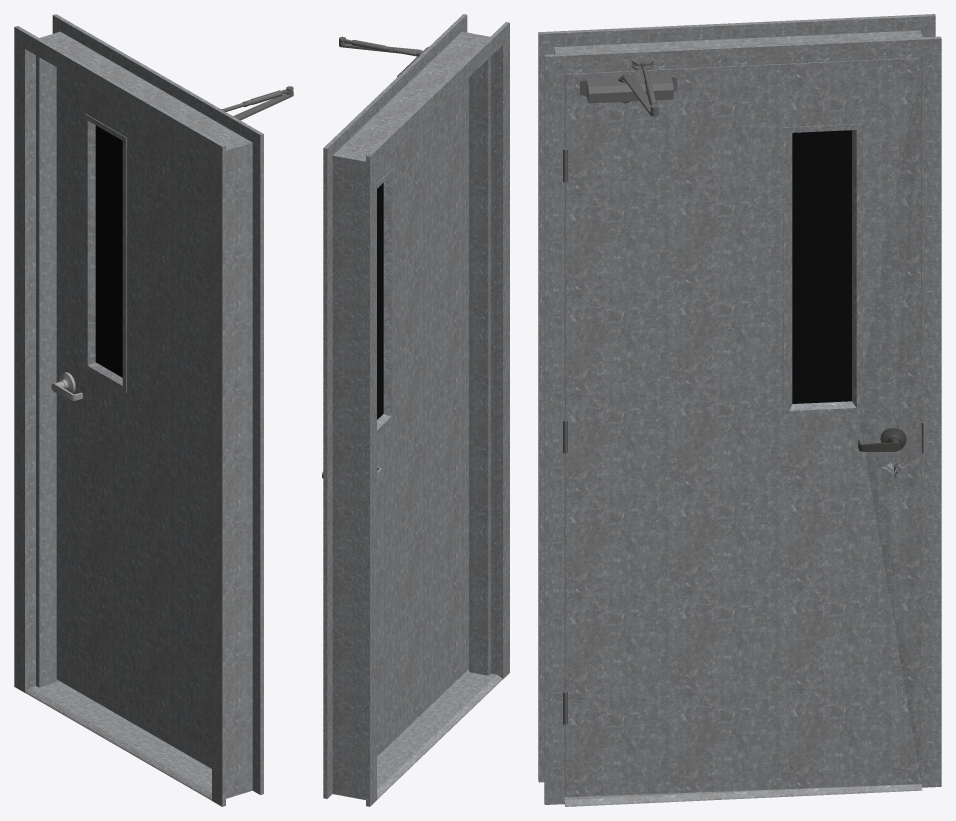
File: puerta_cerradura_estrellada.fbx
3 renders of one model, left to right at view 1: azimuth 30°, elevation 25°; view 2: azimuth 150°, elevation 25°; view 3: azimuth 270°, elevation 25°, orthographic. The views are drawn at different scales.
Visible parts, largest first — view 1: door_004, frame_004, floor_plate_004, handle_004; view 2: frame_004, door_004, floor_plate_004, closer_hinge_frame_004; view 3: door_004, frame_004, floor_plate_004, closer_door_004, handle_004.
Boxes of the visible parts, x1,y1,x2,y2 form: door_004: (56, 67, 211, 768); frame_004: (14, 14, 263, 806); floor_plate_004: (25, 679, 211, 800); handle_004: (51, 372, 82, 400); frame_004: (323, 14, 509, 806); door_004: (377, 78, 468, 756); floor_plate_004: (377, 669, 502, 799); closer_hinge_frame_004: (339, 36, 420, 56); door_004: (563, 57, 921, 797); frame_004: (538, 14, 941, 804); floor_plate_004: (564, 784, 922, 806); closer_door_004: (580, 73, 677, 103); handle_004: (858, 428, 906, 451).
Bounding box in the file's own units: 1.3 × 5.31 × 2.59.
Materials: 5 (2 with a texture image).
